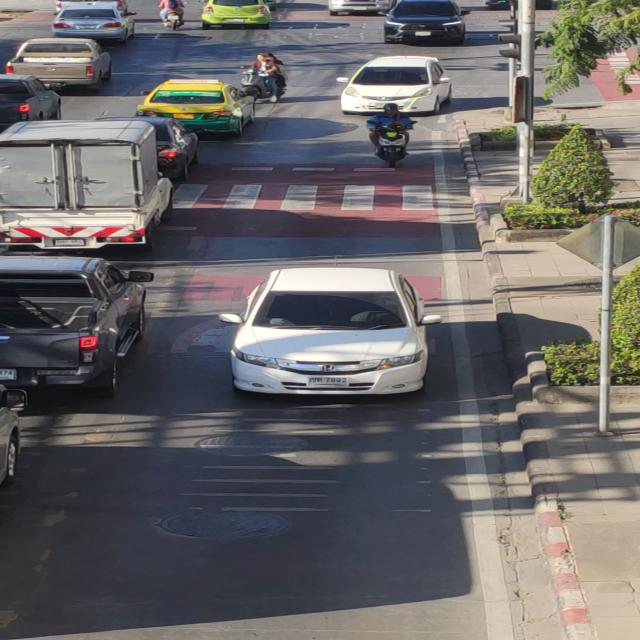car: (211, 262, 464, 403)
